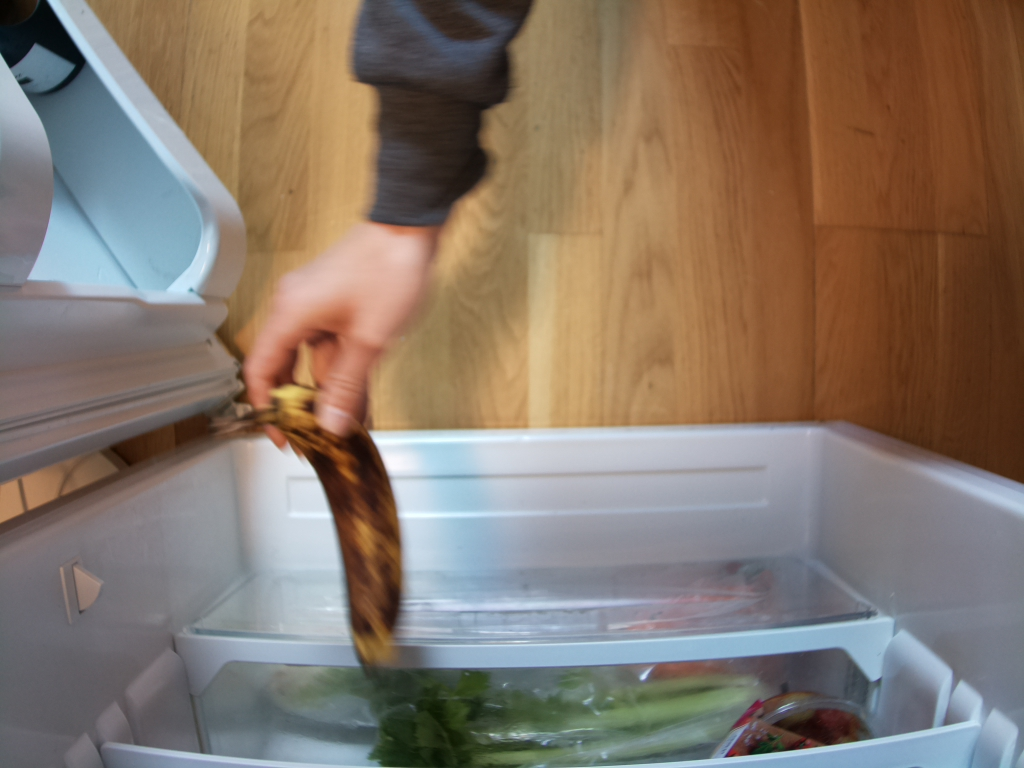banana-overripe: (208, 382, 401, 680)
